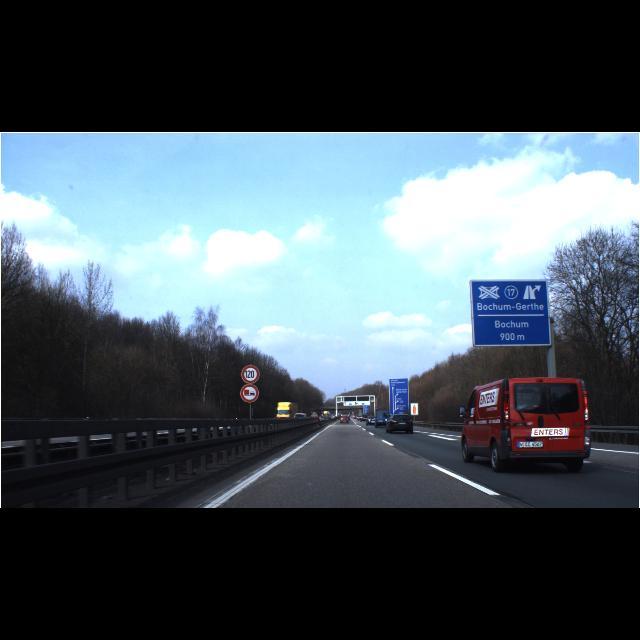prohibitory: (240, 364, 260, 384), (240, 383, 258, 402)
